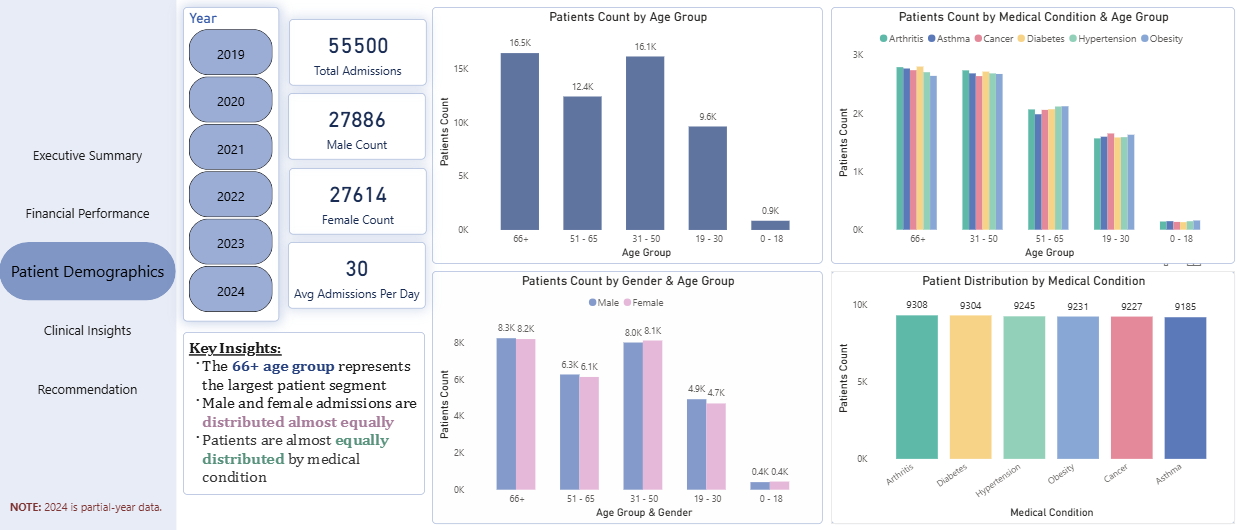

This screenshot's page, from the dashboard's own definition file:
{"tool":"powerbi","page":{"name":"Patient Demographics","canvas":[1680,720],"ordinal":2},"visuals":[{"type":"group","id":"g1","title":"Group 2","box":[0,0,239.7,775],"z":0},{"type":"shape","box":[0,0,239.7,775],"z":0,"group":"g1"},{"type":"columnChart","title":"Patients Count by Age Group","fields":{"Y":["CountNonNull(fact_table.Index)"],"Category":["patient_table.Age Group"]},"box":[585.1,12.2,528.4,347.3],"z":1000},{"type":"pageNavigator","box":[0,172.1,239.7,395.6],"z":1000,"group":"g1"},{"type":"clusteredColumnChart","title":"Patients Count by Gender & Age Group","fields":{"Category":["patient_table.Age Group"],"Y":["CountNonNull(fact_table.Index)"],"Series":["patient_table.Gender"]},"box":[585.1,368.9,528.4,341.9],"z":2000},{"type":"columnChart","title":"Patient Distribution by Medical Condition","fields":{"Category":["medics_table.Medical Condition"],"Y":["CountNonNull(medics_table.Index)"]},"box":[1124.3,368.9,545.9,341.9],"z":3000},{"type":"clusteredColumnChart","title":"Patients Count by Medical Condition & Age Group","fields":{"Category":["patient_table.Age Group"],"Y":["CountNonNull(medics_table.Index)"],"Series":["medics_table.Medical Condition"]},"box":[1124.3,12.2,545.9,347.3],"z":4000},{"type":"card","fields":{"Values":["_Measures.Total Female Patients"]},"box":[391.5,229.2,185.9,90],"z":5000},{"type":"card","fields":{"Values":["_Measures.Total Male Patients"]},"box":[390.1,128.7,185.9,90.1],"z":6000},{"type":"card","fields":{"Values":["_Measures.Total Admissions"]},"box":[391.5,28.2,185.9,90.1],"z":7000},{"type":"advancedSlicerVisual","fields":{"Values":["calendar_table.Year"]},"box":[249.3,12.7,129.6,425.4],"z":8000},{"type":"card","fields":{"Values":["_Measures.Avg Admissions Per Day"]},"box":[390.1,329.6,185.9,90],"z":9000},{"type":"textbox","box":[9.5,671.6,229.7,29.7],"z":10000},{"type":"textbox","box":[248.6,451.4,327,220.3],"z":11000}]}

Visuals, with their boxes in screenshot pixels (x1, y1, x2, y2), scaled from the page's 1680x720 canvas onto the 1237x530 screenshot:
"Group 2" group: {"x1": 0, "y1": 0, "x2": 176, "y2": 529}
shape: {"x1": 0, "y1": 0, "x2": 176, "y2": 529}
"Patients Count by Age Group" columnChart: {"x1": 431, "y1": 9, "x2": 820, "y2": 265}
pageNavigator: {"x1": 0, "y1": 127, "x2": 176, "y2": 418}
"Patients Count by Gender & Age Group" clusteredColumnChart: {"x1": 431, "y1": 272, "x2": 820, "y2": 523}
"Patient Distribution by Medical Condition" columnChart: {"x1": 828, "y1": 272, "x2": 1230, "y2": 523}
"Patients Count by Medical Condition & Age Group" clusteredColumnChart: {"x1": 828, "y1": 9, "x2": 1230, "y2": 265}
card - _Measures.Total Female Patients: {"x1": 288, "y1": 169, "x2": 425, "y2": 235}
card - _Measures.Total Male Patients: {"x1": 287, "y1": 95, "x2": 424, "y2": 161}
card - _Measures.Total Admissions: {"x1": 288, "y1": 21, "x2": 425, "y2": 87}
advancedSlicerVisual - calendar_table.Year: {"x1": 184, "y1": 9, "x2": 279, "y2": 322}
card - _Measures.Avg Admissions Per Day: {"x1": 287, "y1": 243, "x2": 424, "y2": 309}
textbox: {"x1": 7, "y1": 494, "x2": 176, "y2": 516}
textbox: {"x1": 183, "y1": 332, "x2": 424, "y2": 494}
